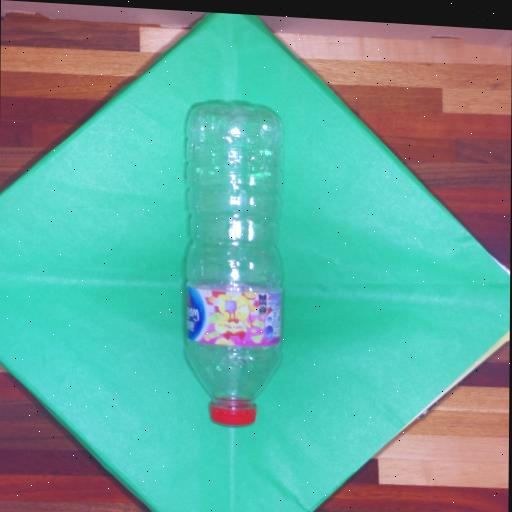bottle: (158, 83, 311, 445)
